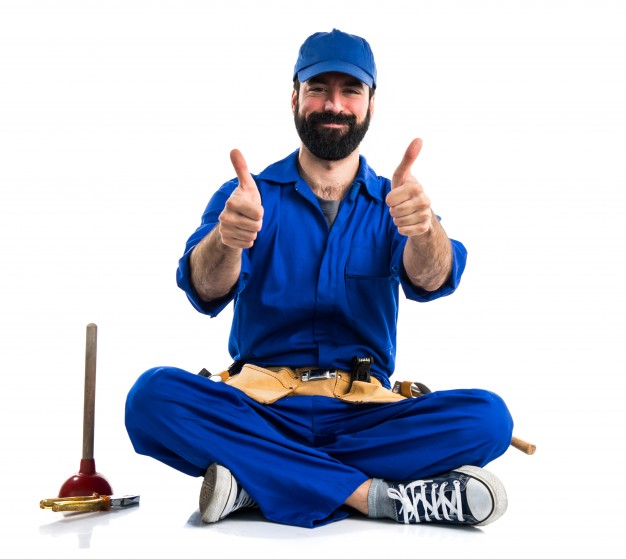thumbsup: (385, 138, 432, 235), (218, 149, 264, 248)
